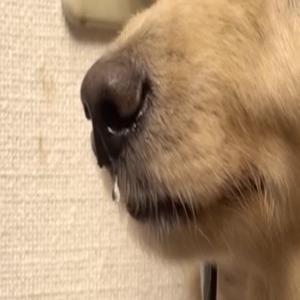nasal_discharge: (84, 133, 126, 204)
